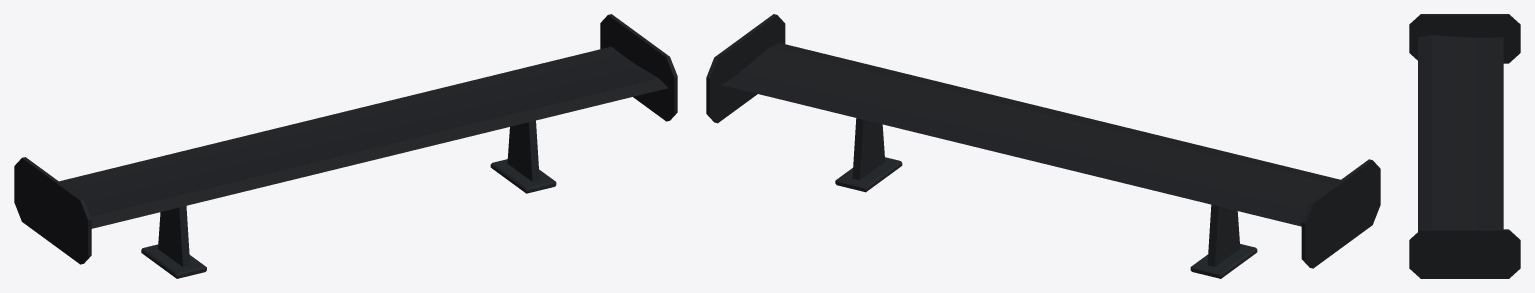
Rendered from vortex_r.glb.
3 views of the same model, side by side, from view 1: azimuth 30°, elevation 25°; view 2: azimuth 150°, elevation 25°; view 3: azimuth 270°, elevation 25° (orthographic). The views are drawn at different scales.
Parts seen in each view (by area): view 1: wing_element, model; view 2: wing_element, model; view 3: wing_element.
Boxes of the visible parts, box(x1,y1,x2,y2) form: wing_element: box(14, 14, 677, 264); model: box(141, 120, 556, 278); wing_element: box(706, 14, 1380, 268); model: box(835, 118, 1257, 278); wing_element: box(1409, 14, 1520, 278).
Size of the model in its own units: 1.32 by 0.2364 by 0.286.
2 materials, 1 textured.
